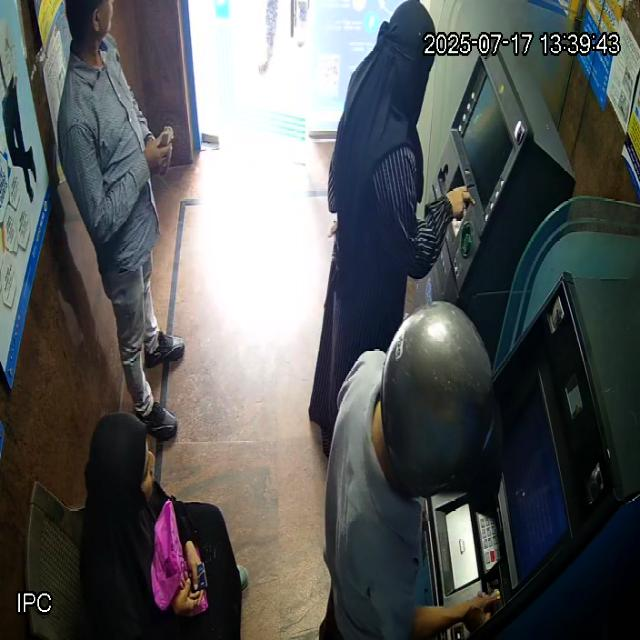helmet: (381, 302, 493, 497)
no_helmet: (64, 0, 113, 55)
